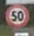limite 50: (4, 3, 29, 28)
